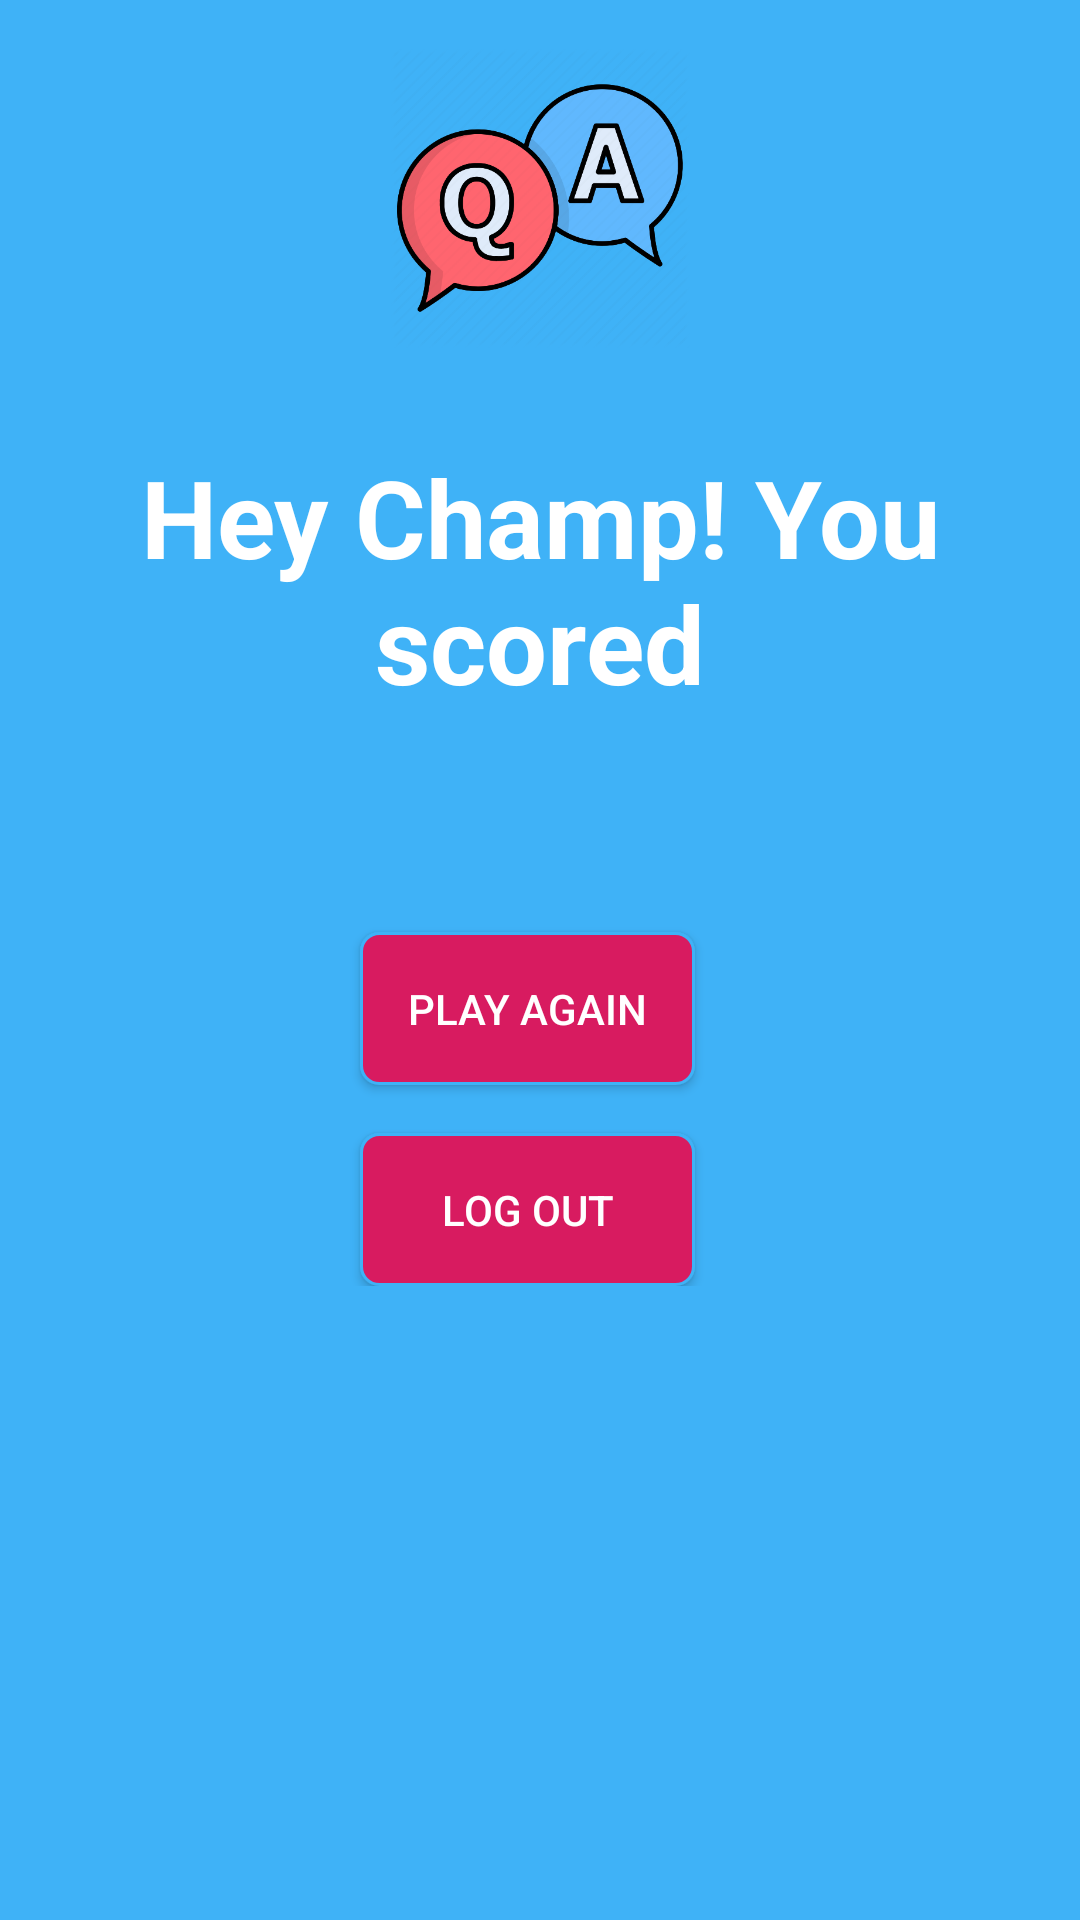

Icon bounding boxes for this 1080 x 1920 phone screenshot, format (x1, y1, x2, y2):
qna: (397, 84, 683, 312)
